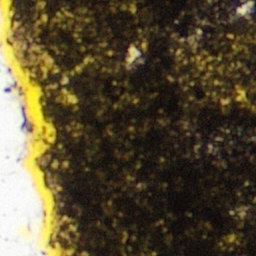cement_matrix: (12, 0, 255, 255), (238, 3, 250, 15), (128, 48, 138, 61), (42, 57, 50, 67), (66, 95, 71, 99)
cracks: (0, 0, 68, 255)
gravel_crushed_stones: (0, 8, 49, 255), (239, 4, 249, 14), (129, 49, 137, 60), (43, 58, 49, 66), (67, 96, 70, 98)
